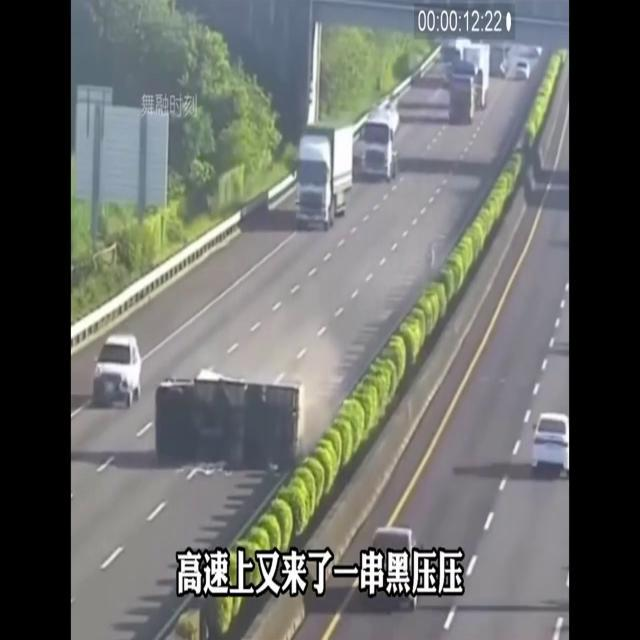normal: (274, 94, 417, 234), (427, 30, 566, 121), (523, 409, 610, 521), (356, 530, 417, 613), (94, 334, 153, 411)
single accident: (153, 344, 310, 493)
